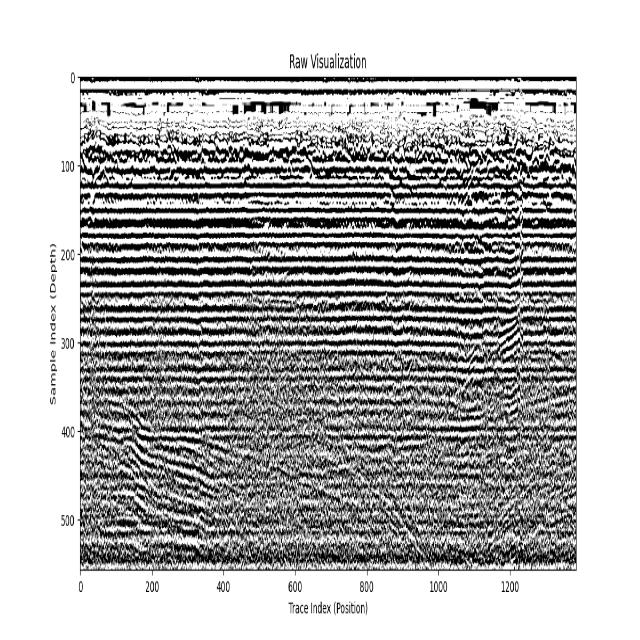anomaly: (87, 383, 234, 567), (262, 438, 432, 567), (453, 303, 566, 446)
